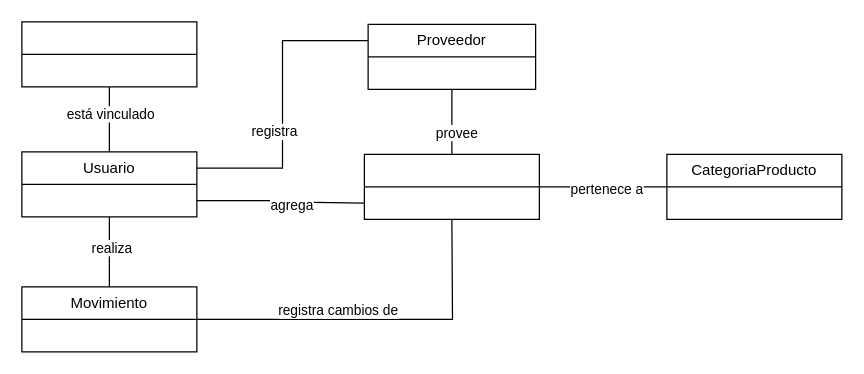
Some shapes in this 864 by 374 pixel diagram are drawn without their labels. Each missing label, with the centre of its shape:
Producto: the point at 451,186
Rol: the point at 109,54
